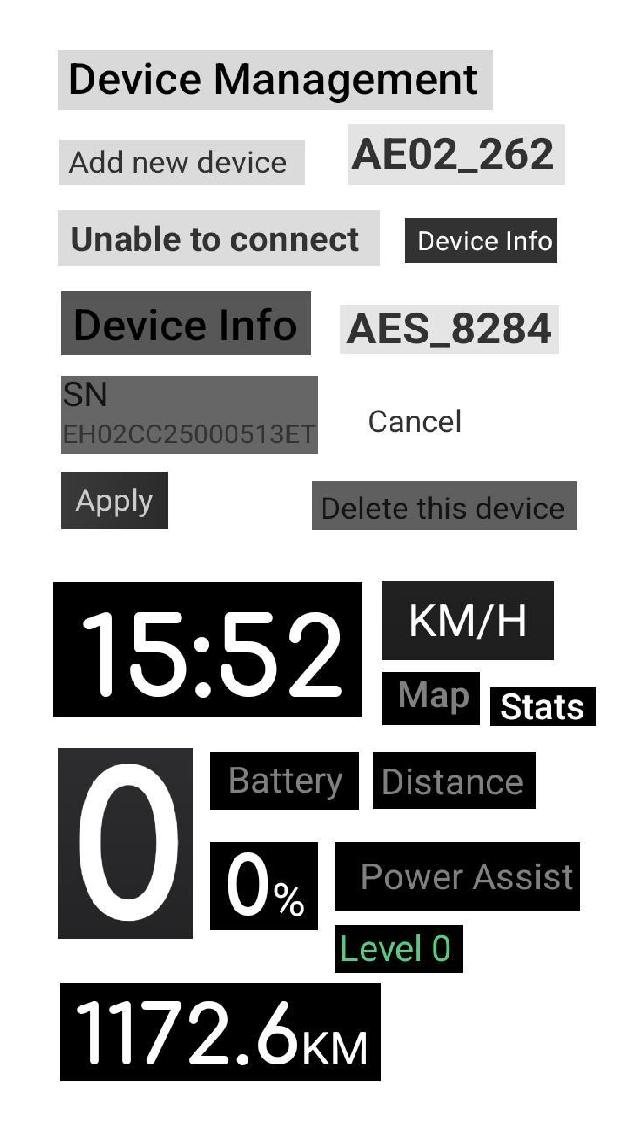Text: (70, 605, 347, 702), (69, 995, 372, 1073), (75, 760, 187, 928), (65, 59, 483, 104), (66, 217, 365, 260), (71, 302, 303, 351), (355, 853, 574, 899), (316, 489, 570, 527), (350, 132, 560, 176), (66, 418, 316, 453), (343, 308, 550, 350), (60, 145, 295, 177), (218, 846, 314, 923), (376, 761, 531, 804), (404, 598, 538, 646), (220, 761, 349, 804), (412, 223, 553, 258), (362, 400, 472, 440), (336, 929, 458, 965), (70, 482, 162, 524), (389, 680, 475, 717), (499, 692, 587, 726), (61, 375, 112, 409)
